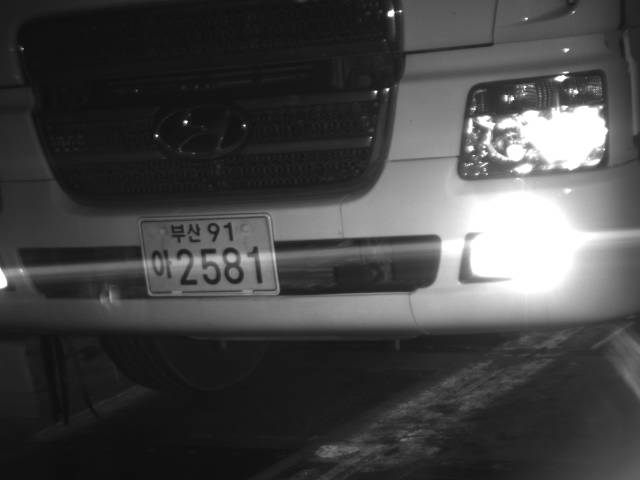car: (1, 1, 639, 390)
plate: (135, 212, 282, 298)
